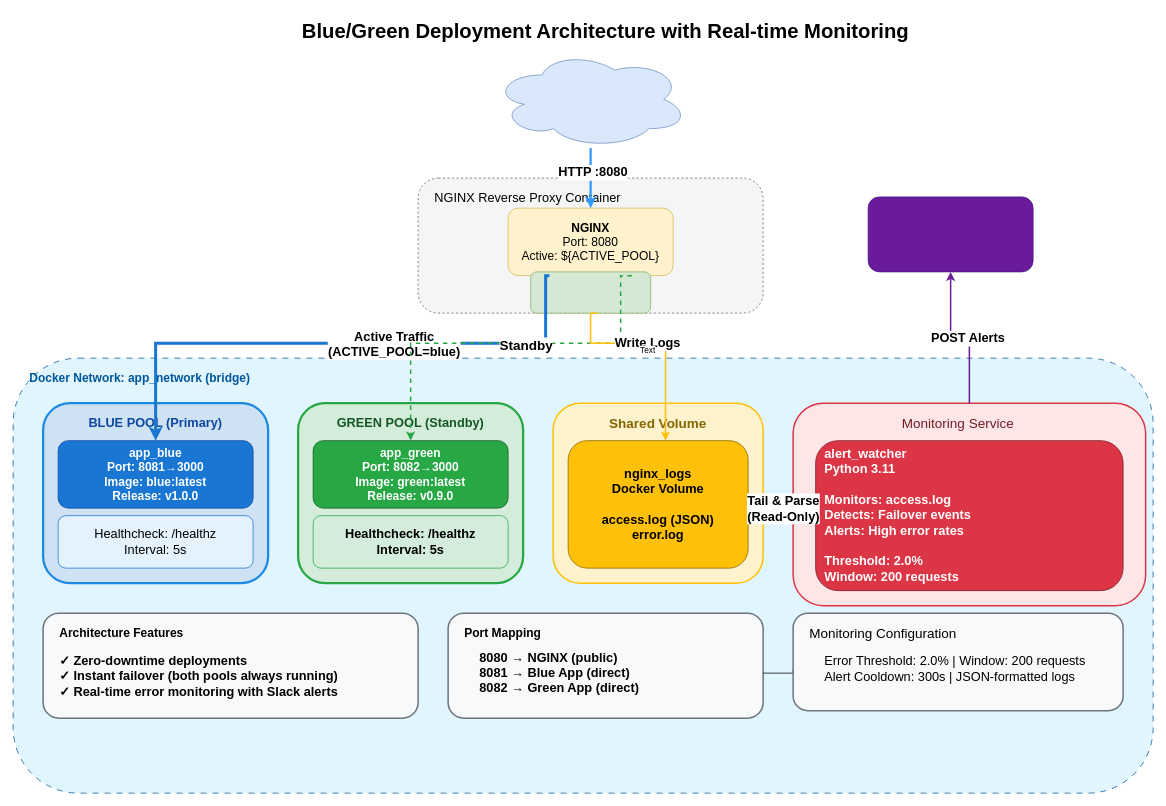
The diagram is 1166 pixels wide and 806 high, and some of its shapes have lost their labels. The shapes that lost their labels are listed below. From the top down, each one's centre as x and y in pixels, then its label:
the point at 590,99: Internet
the point at 950,234: Slack Webhook
the point at 590,292: Health: /health
